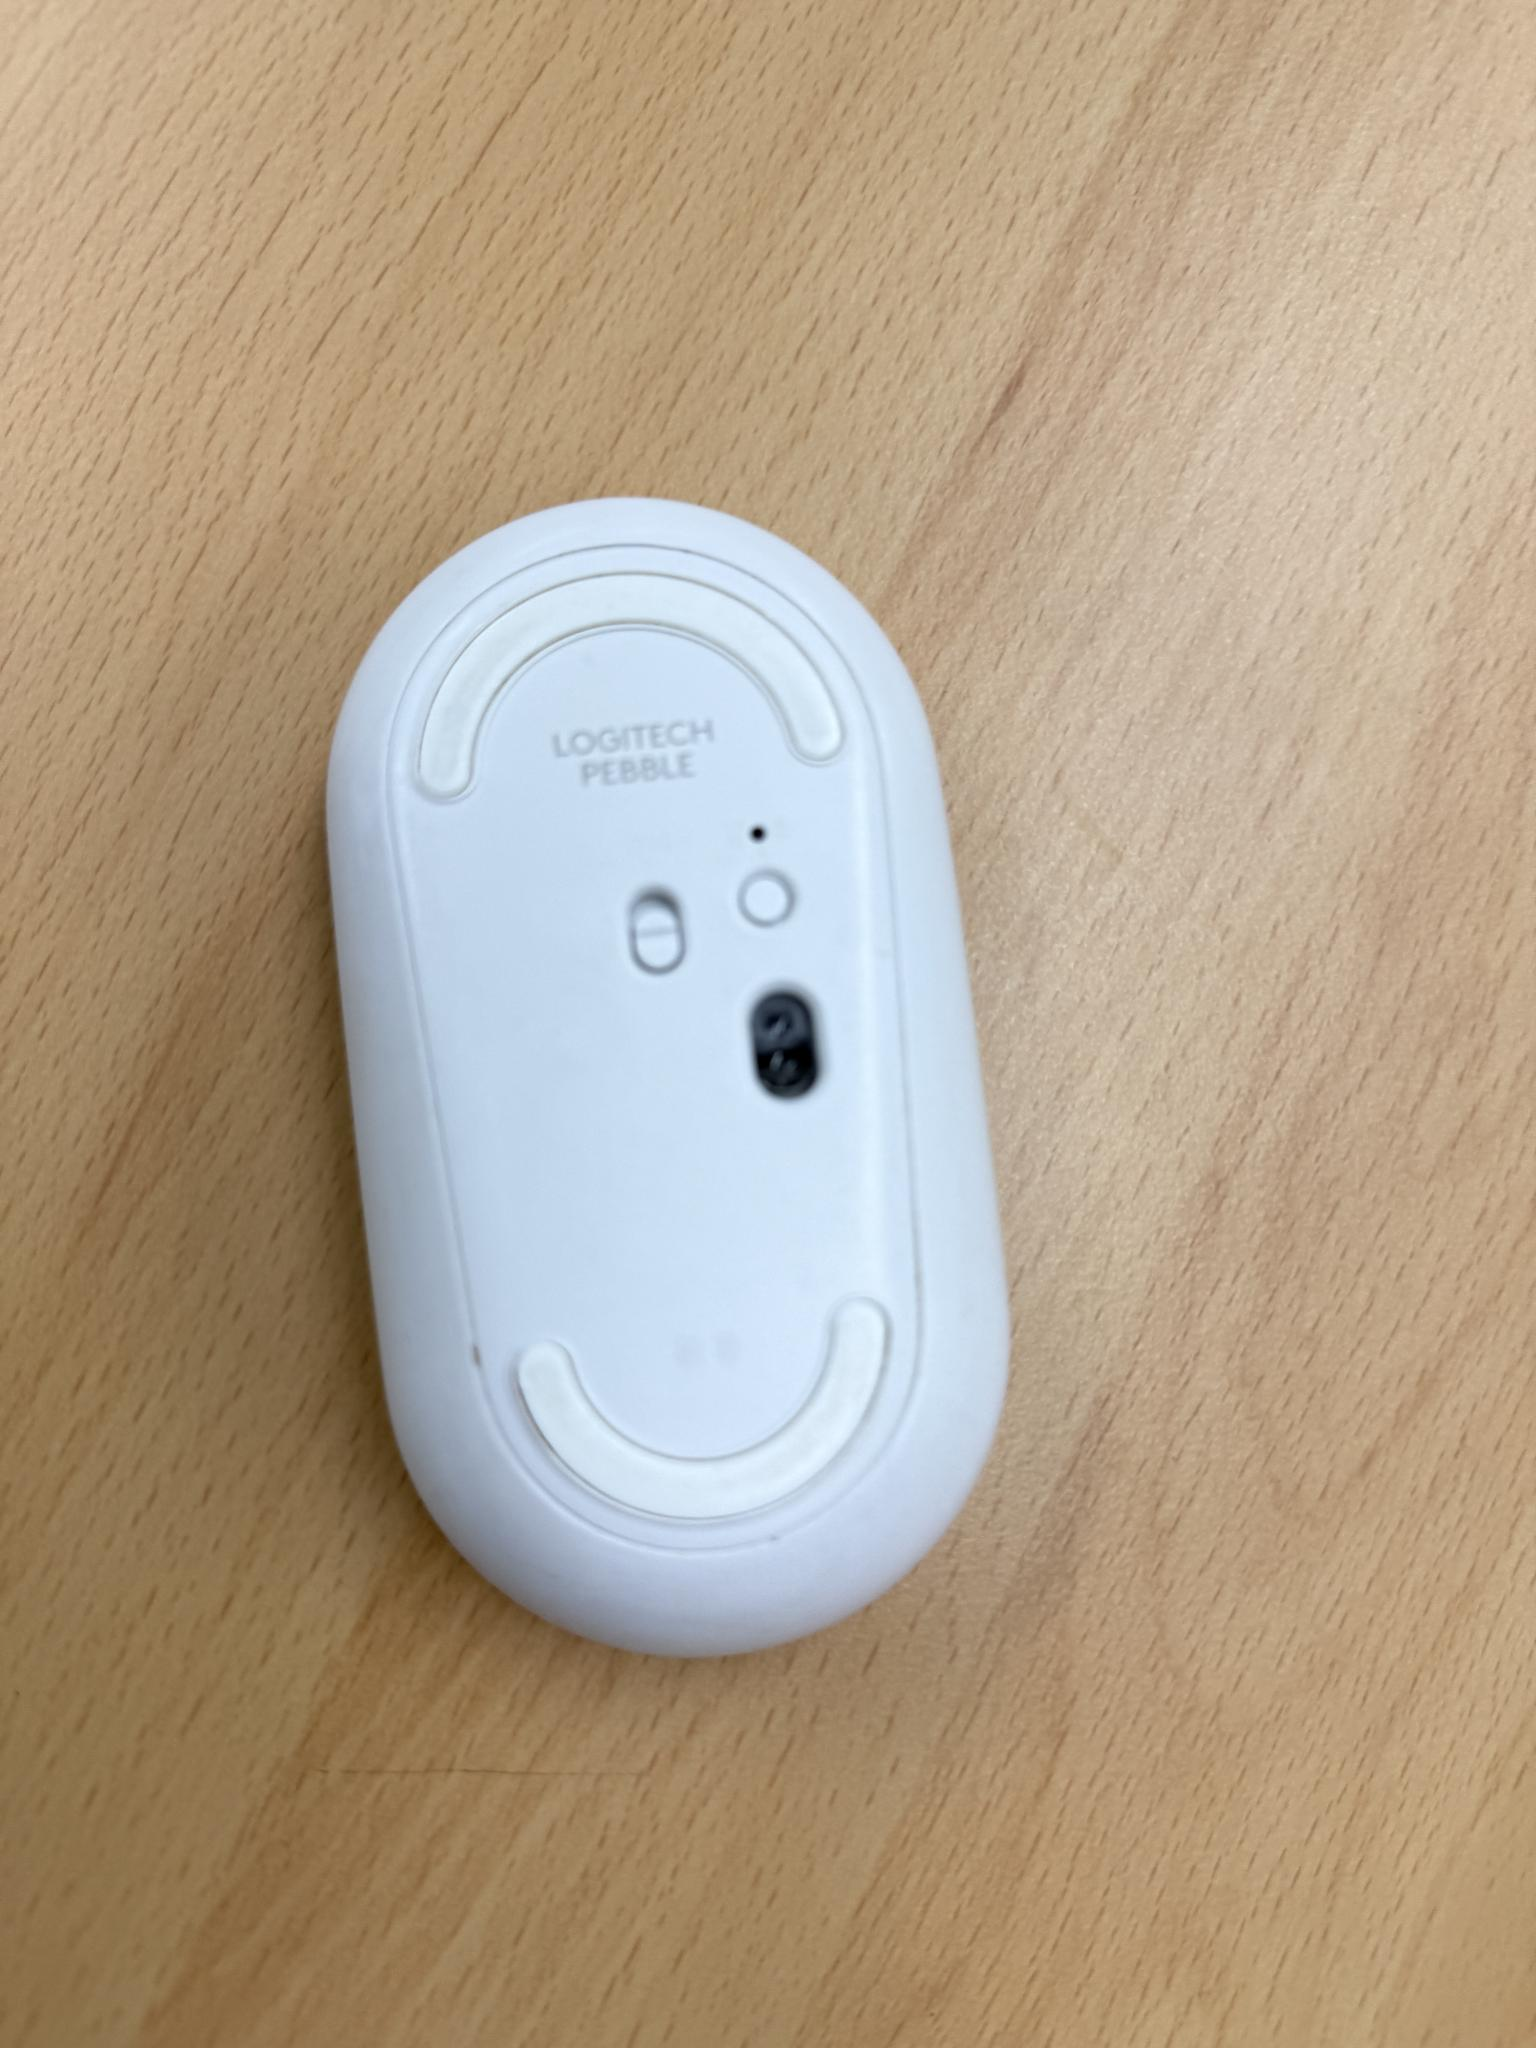back: (329, 492, 1033, 1679)
